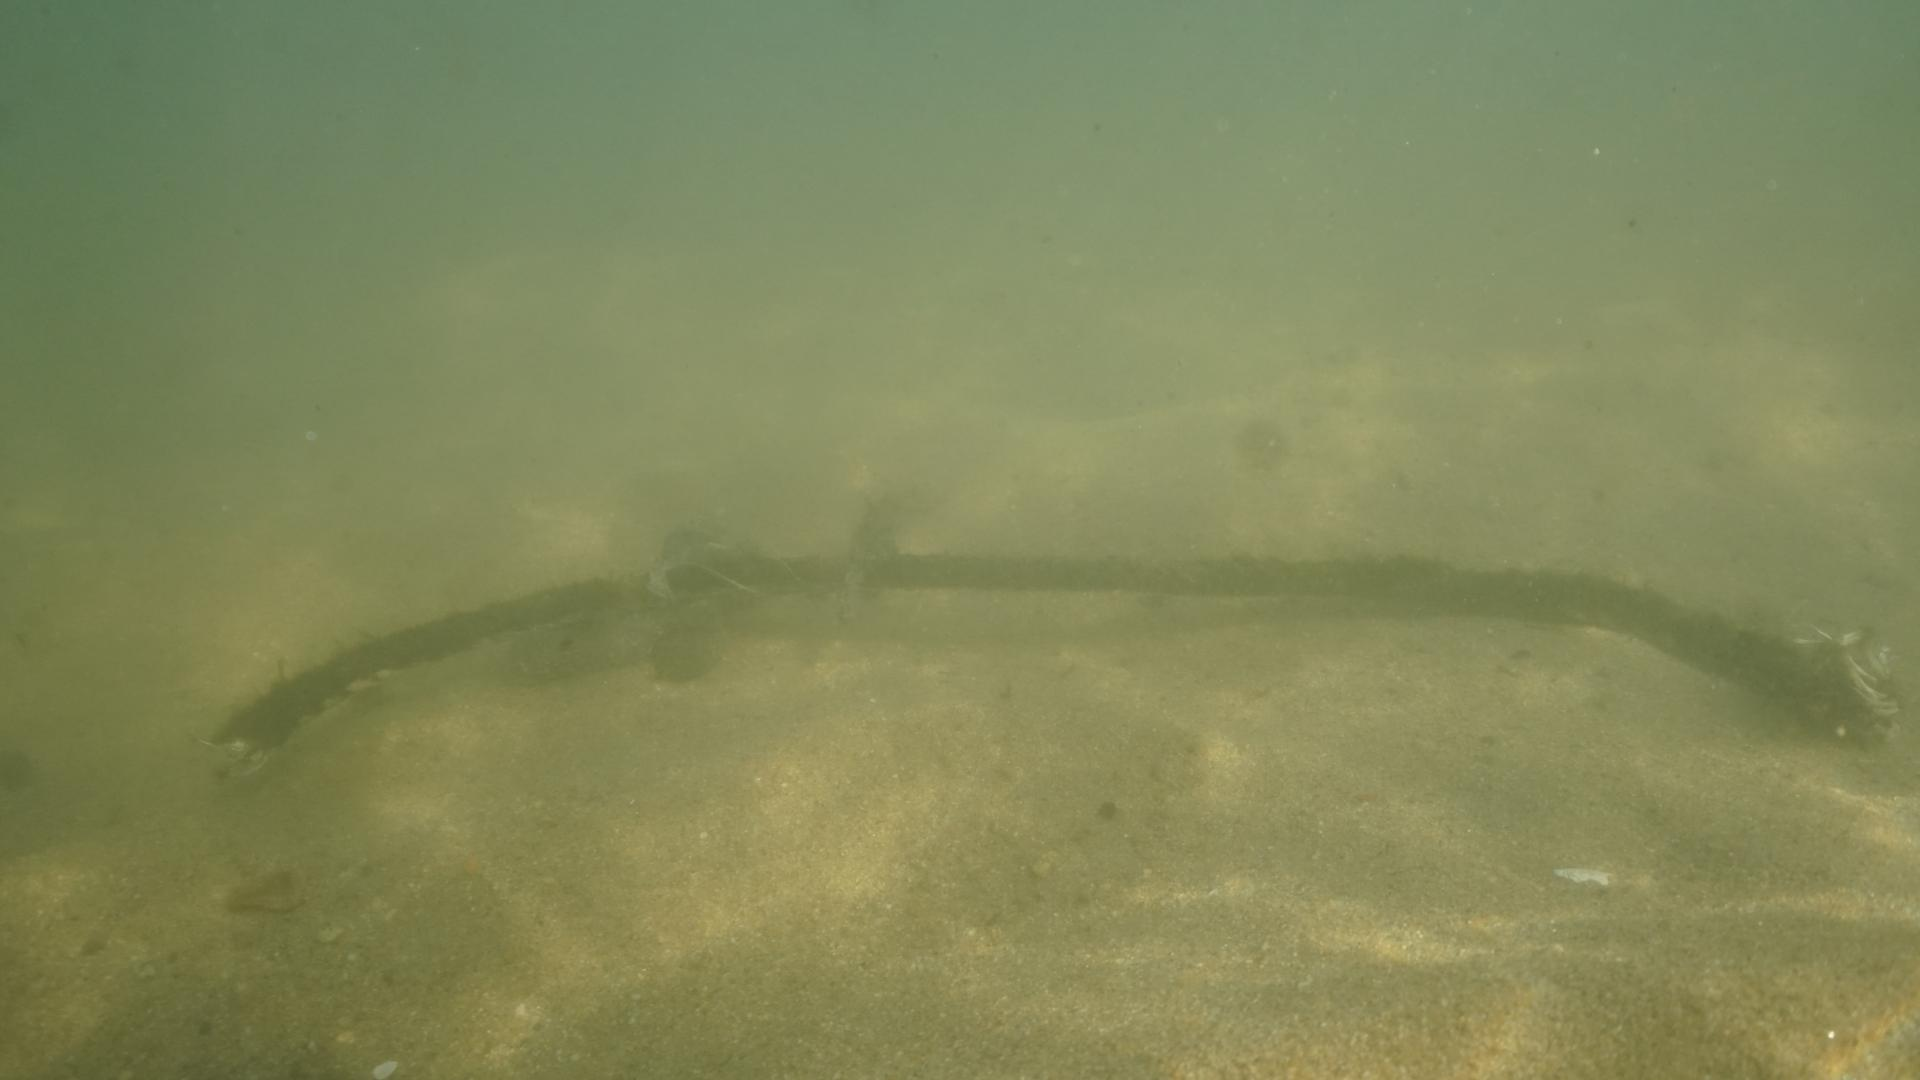wood: (210, 549, 1898, 764)
